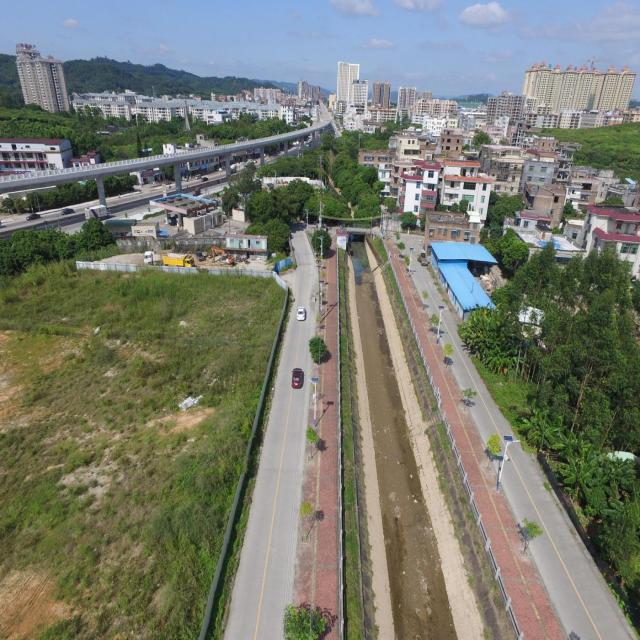car: (291, 368, 304, 388), (296, 306, 306, 321)
tree: (308, 334, 327, 364)
